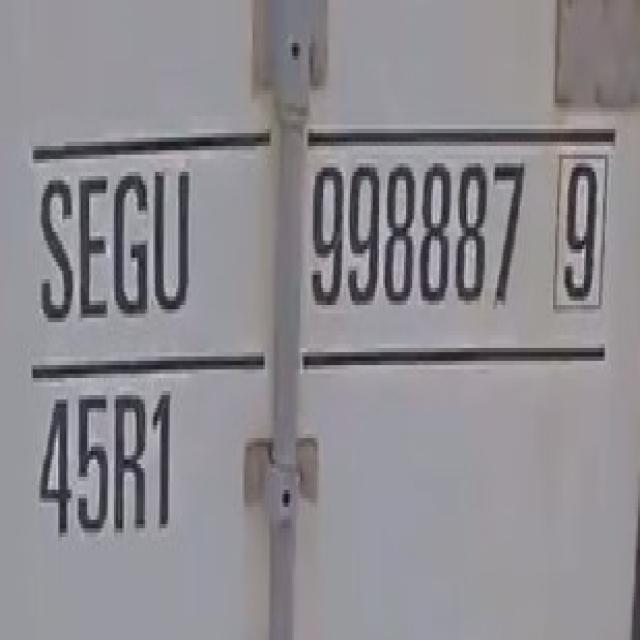dv: (543, 145, 608, 315)
owner: (37, 160, 195, 337)
serial: (306, 142, 528, 332)
size: (33, 378, 181, 555)
